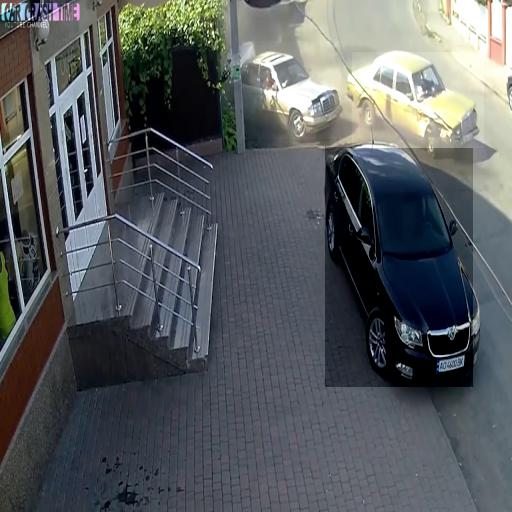小汽车: (325, 147, 473, 387), (352, 52, 484, 148), (242, 42, 341, 140)
